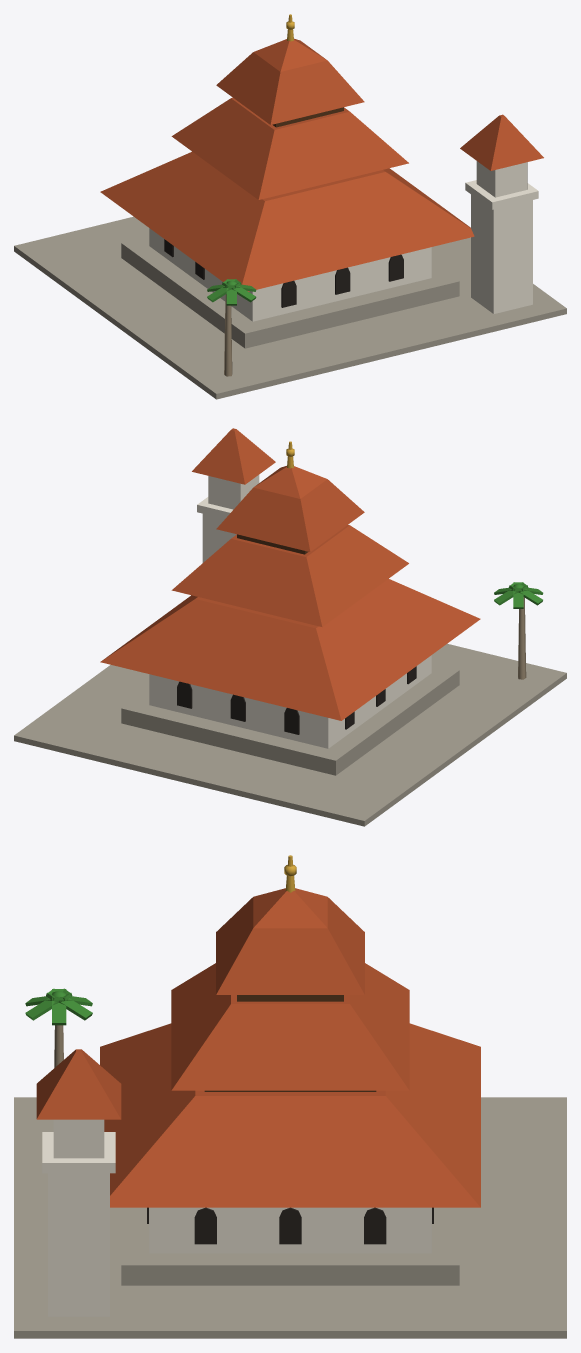
Rendered from building_masjid.glb.
3 views of the same model, one above another, from view 1: azimuth 30°, elevation 25°; view 2: azimuth 150°, elevation 25°; view 3: azimuth 270°, elevation 25° (orthographic). The views are drawn at different scales.
Visible parts, largest first — view 1: building_masjid; view 2: building_masjid; view 3: building_masjid.
Boxes of the visible parts, x1,y1,x2,y2 form: building_masjid: (14,14,566,399); building_masjid: (14,428,566,826); building_masjid: (14,855,566,1338).
Bounding box in the file's own units: 1.96 × 1.43 × 1.96.
